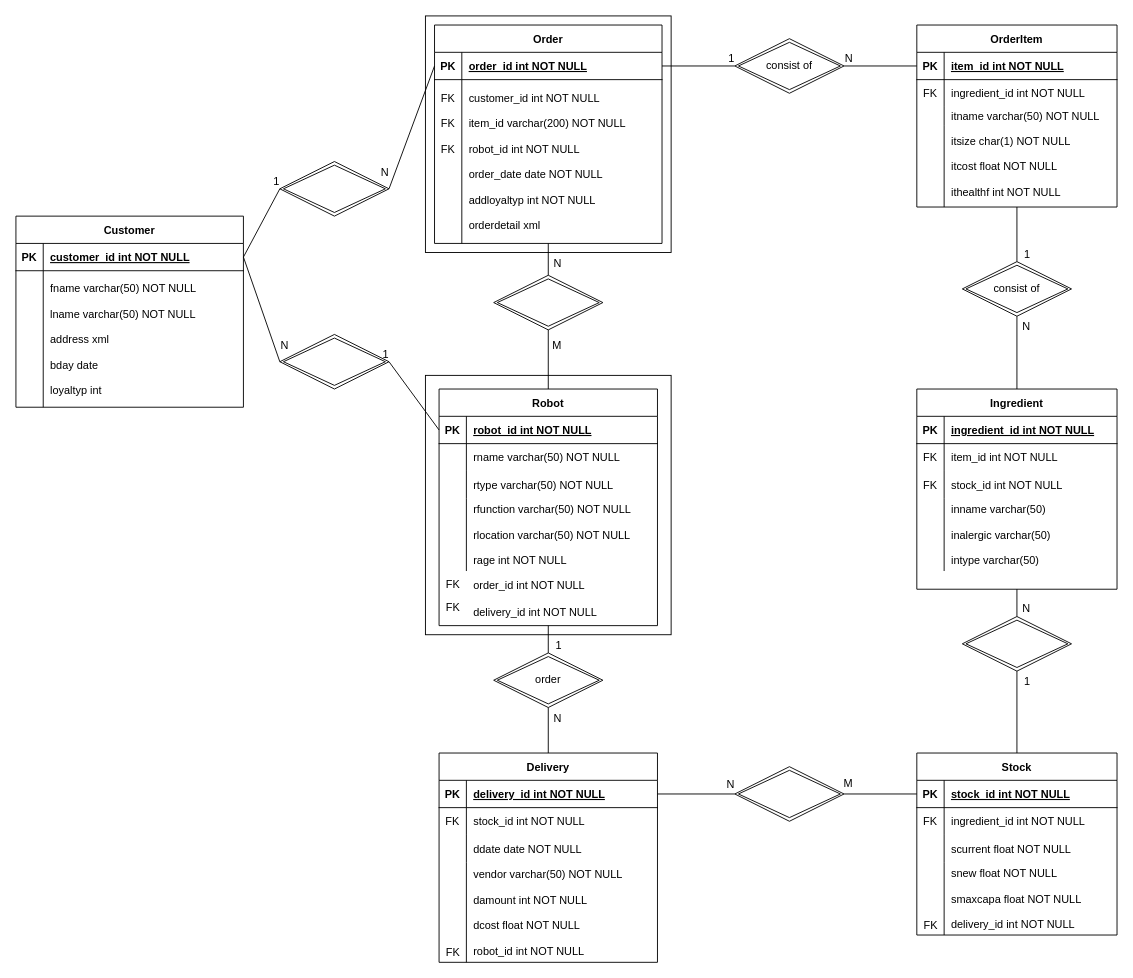
Image size: 1133x978. Some labels were removed from this diagram. Each missing label, with the centre of its shape:
"add to" belongs at point 789,793.
"prepare" belongs at point 548,302.
"request" belongs at point 334,188.
"store" belongs at point 1016,643.
"update" belongs at point 334,361.
